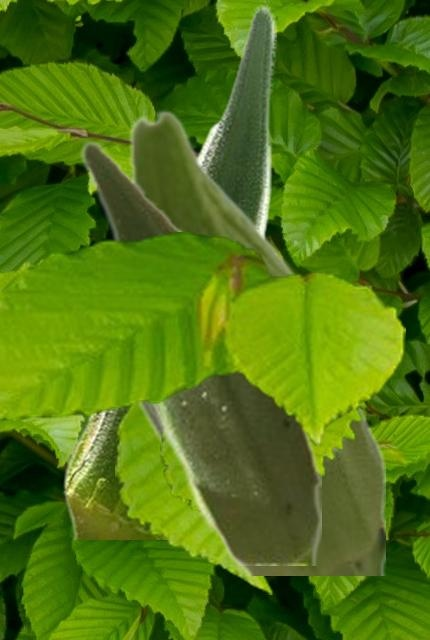okra: (124, 109, 384, 574), (62, 3, 275, 538), (79, 138, 320, 564)
